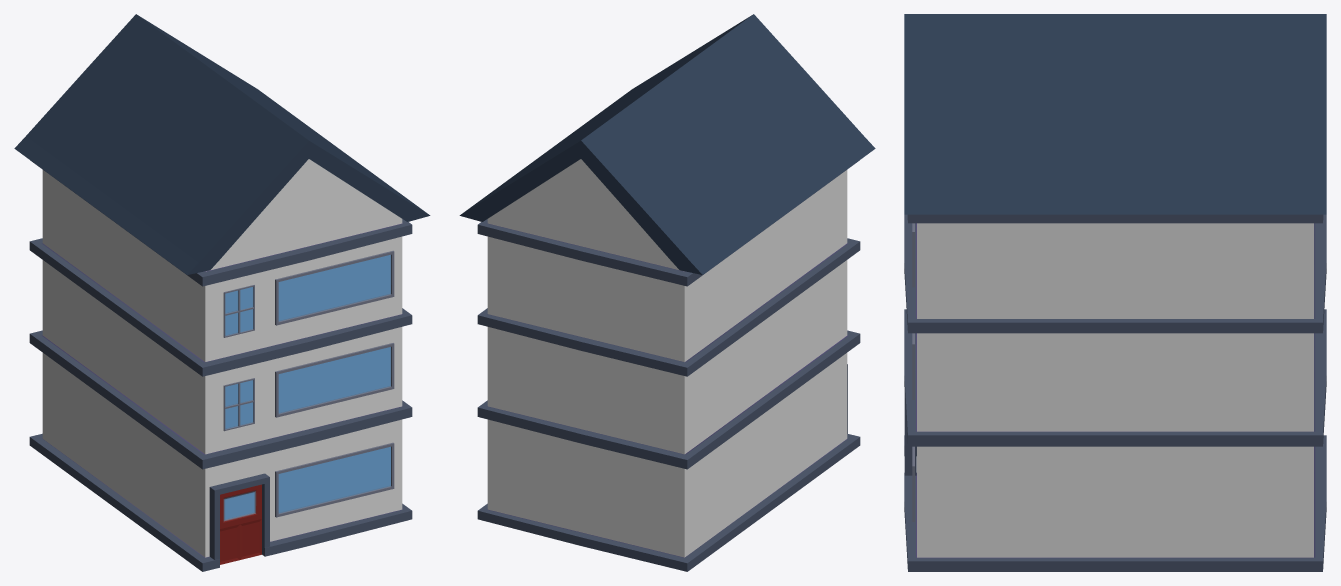
Rendered from House 3.fbx.
The picture shows the model from 3 angles, left to right: view 1: azimuth 30°, elevation 25°; view 2: azimuth 150°, elevation 25°; view 3: azimuth 270°, elevation 25°; orthographic projection. The views are drawn at different scales.
Visible parts, largest first — view 1: Houes 3; view 2: Houes 3; view 3: Houes 3.
Part boxes in pixels (x1=…): Houes 3: x1=14, y1=14, x2=430, y2=571; Houes 3: x1=459, y1=14, x2=875, y2=571; Houes 3: x1=904, y1=14, x2=1326, y2=571.
Bounding box in the file's own units: 3972 × 6321 × 4883.
Materials: 6 (5 with a texture image).
